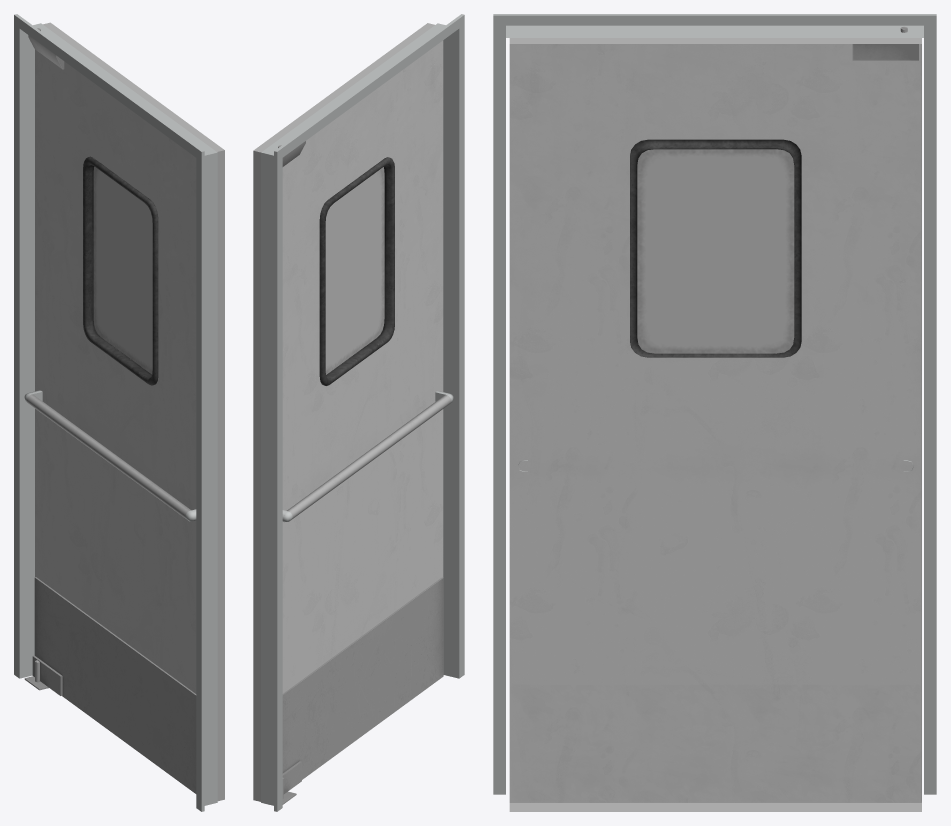
File: SM_Door_Employee_01.fbx
3 views of the same model, side by side, from view 1: azimuth 30°, elevation 25°; view 2: azimuth 150°, elevation 25°; view 3: azimuth 270°, elevation 25° (orthographic). The views are drawn at different scales.
Parts seen in each view (by area): view 1: SM_Door_Employee_01_LOD0; view 2: SM_Door_Employee_01_LOD0; view 3: SM_Door_Employee_01_LOD0.
Boxes of the visible parts, bbox=[...] form: SM_Door_Employee_01_LOD0: bbox=[14, 14, 224, 811]; SM_Door_Employee_01_LOD0: bbox=[253, 14, 464, 811]; SM_Door_Employee_01_LOD0: bbox=[493, 14, 936, 811].
Size of the model in its own units: 10.13 by 104 by 202.
